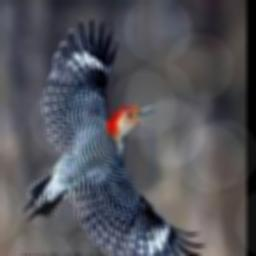Woodpecker: (22, 17, 205, 256)
